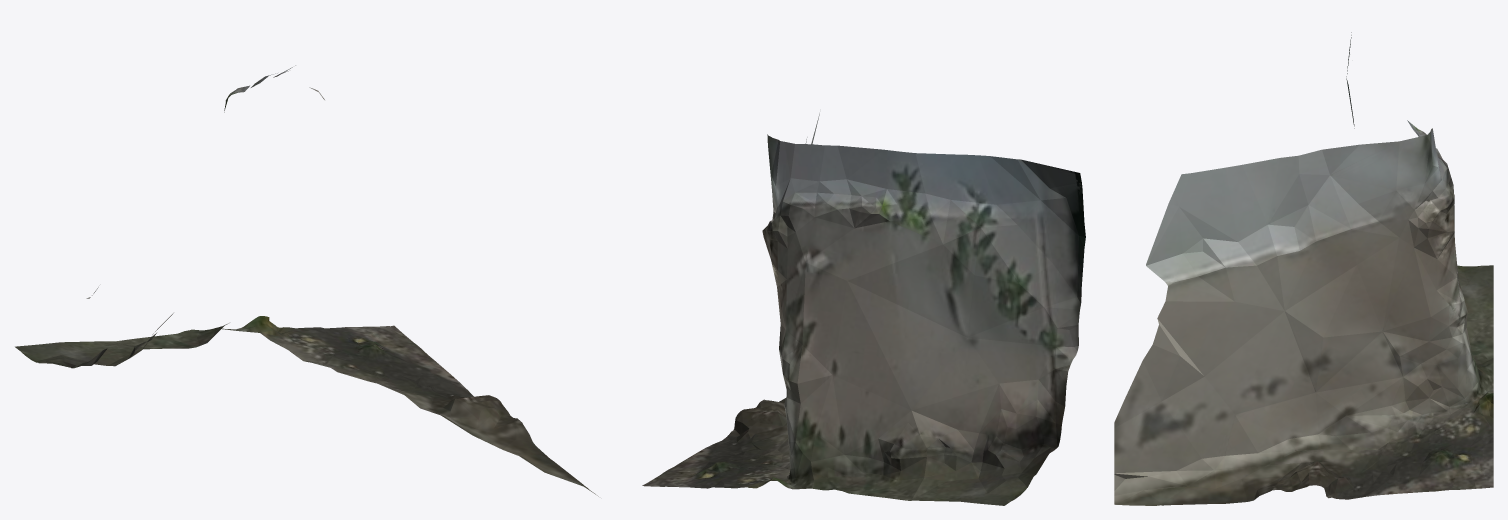
3 renders of one model, left to right at view 1: azimuth 30°, elevation 25°; view 2: azimuth 150°, elevation 25°; view 3: azimuth 270°, elevation 25°, orthographic. The views are drawn at different scales.
Bounding box in the file's own units: 1.67 × 1.62 × 1.67.
4 materials, 4 textured.
